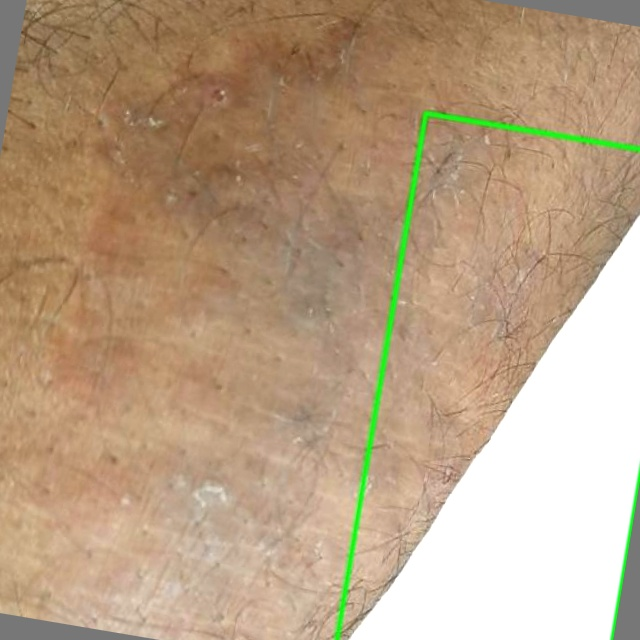Tinea Corporis: (337, 113, 639, 639)
